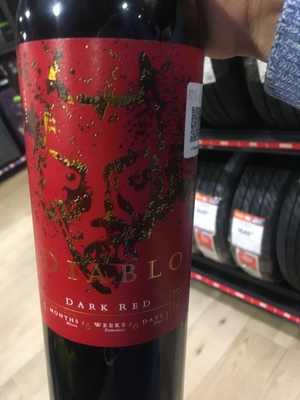diablo dark red: (12, 7, 226, 400)
